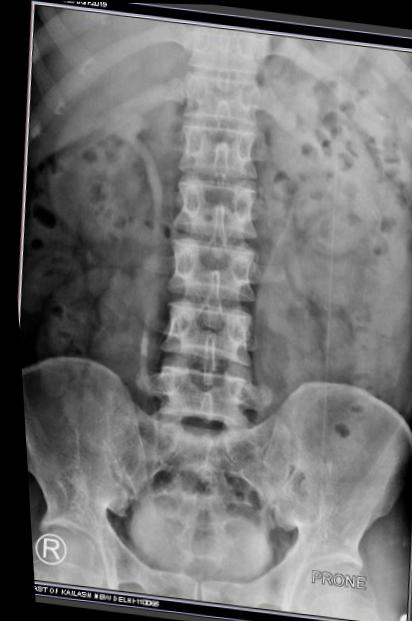bladder: (110, 480, 283, 594)
left kidney: (257, 78, 412, 271)
right kidney: (20, 64, 176, 262)
vertebrae: (170, 118, 263, 183)
